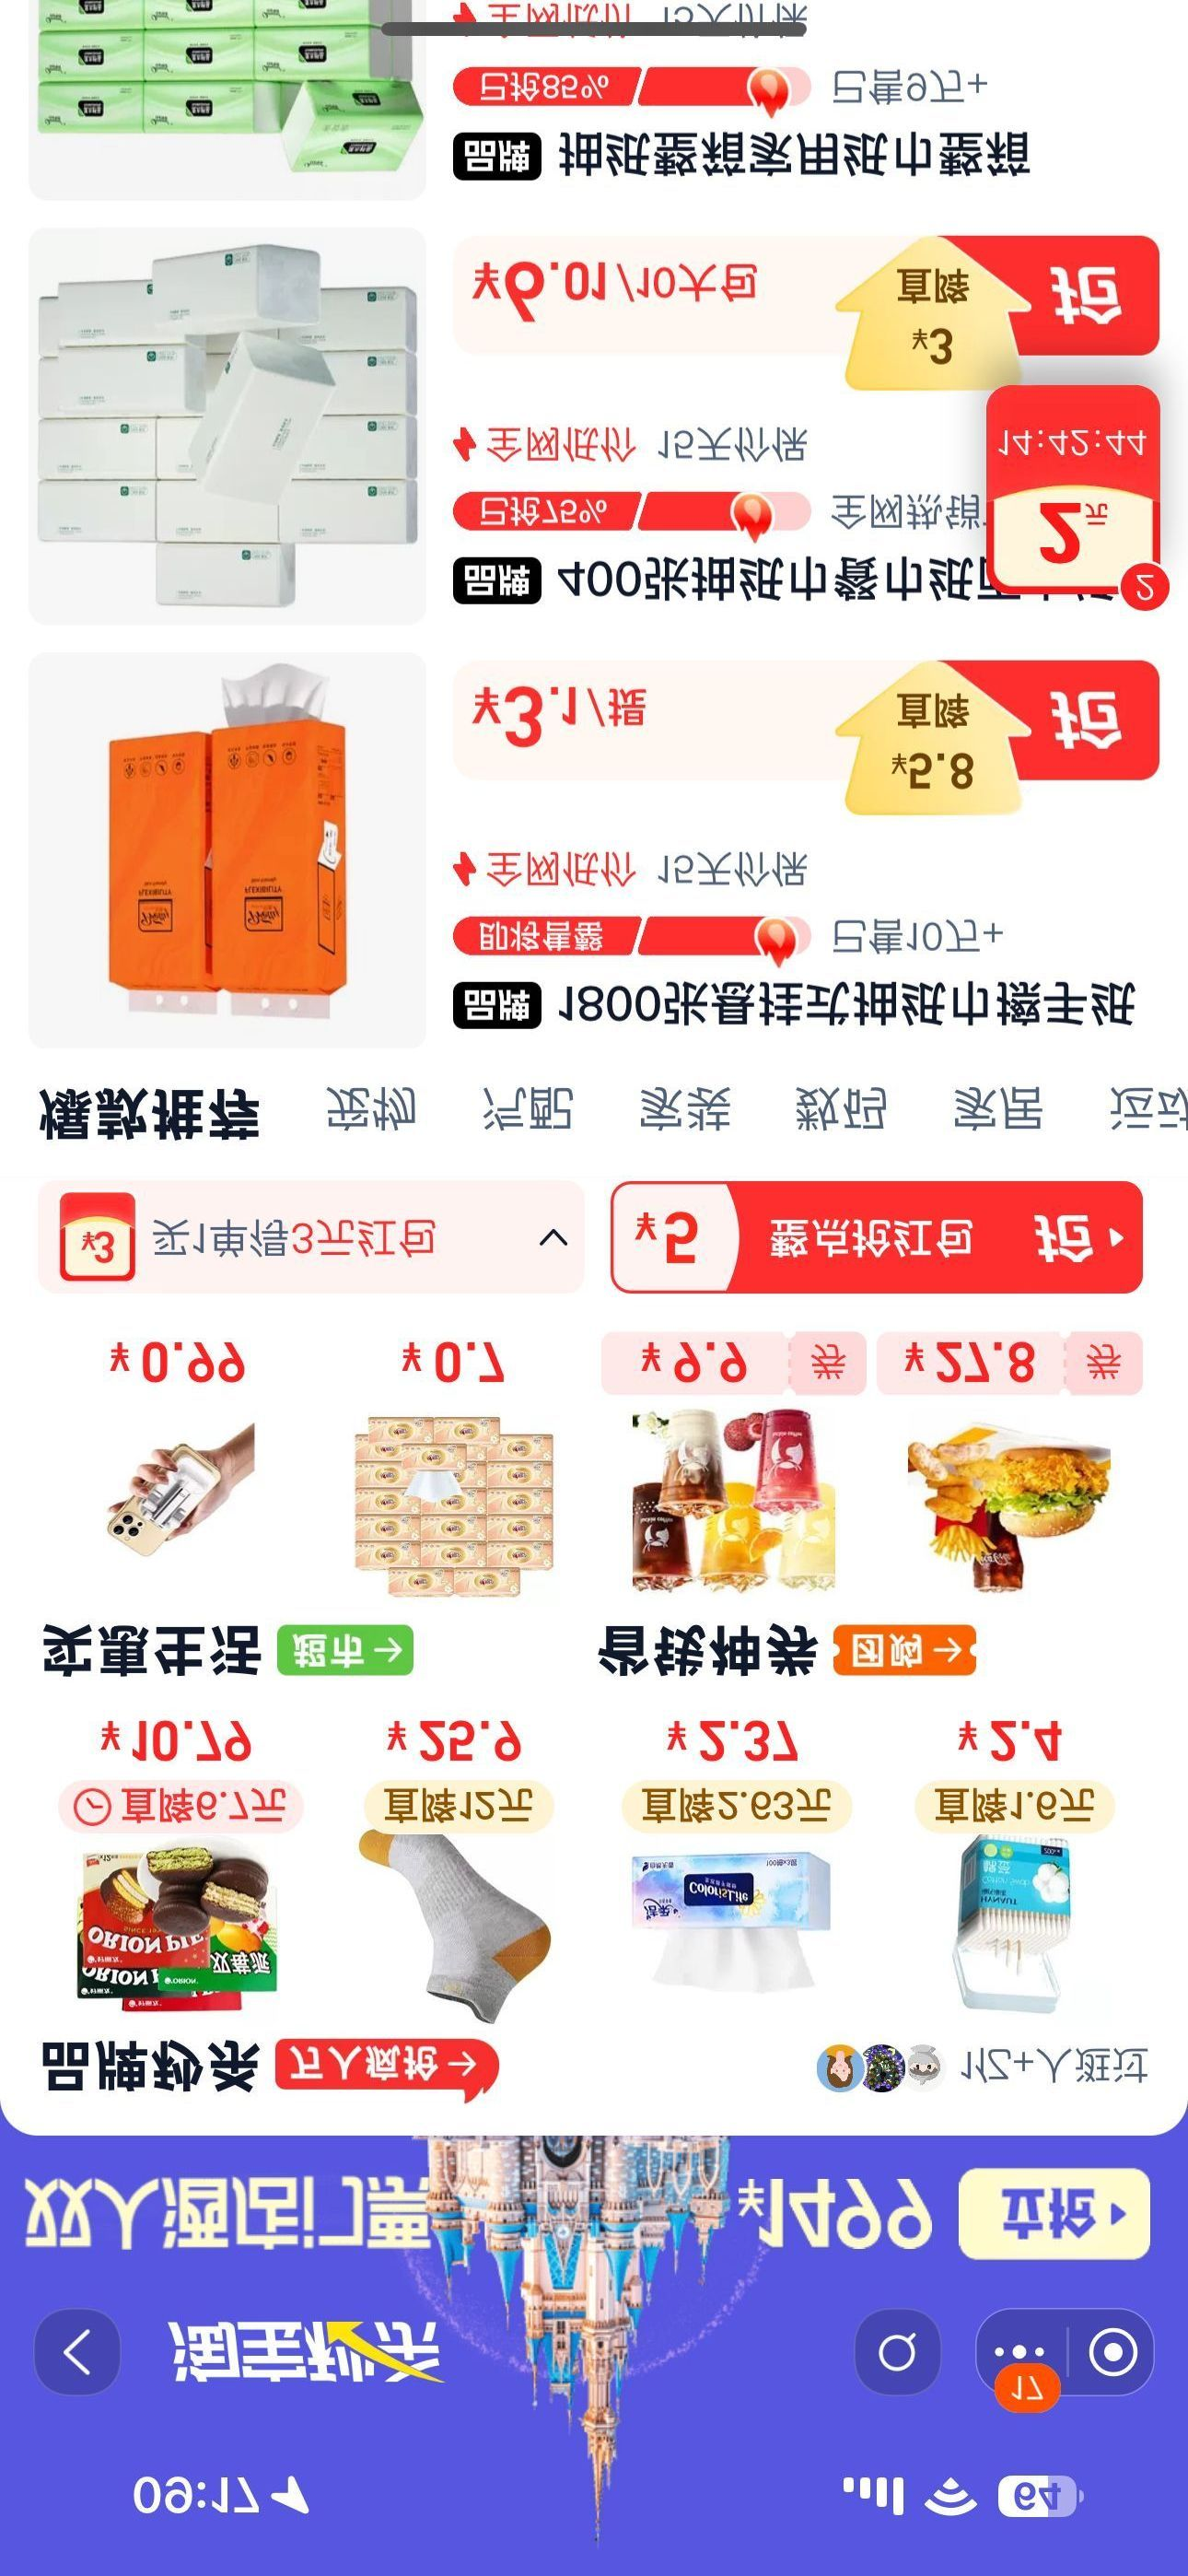item: (13, 631, 1186, 1030), (12, 207, 1183, 603)
op_bar: (13, 2292, 1183, 2430)
seckill: (13, 1684, 1175, 2103)
